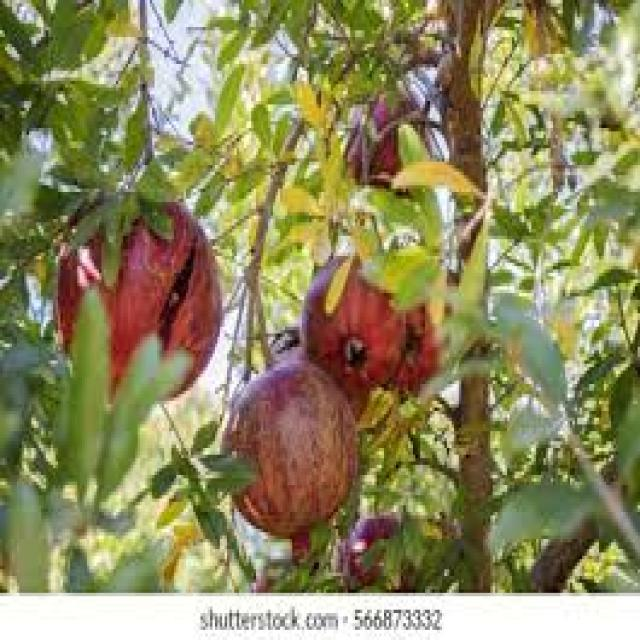overripe: (54, 193, 225, 406), (224, 361, 362, 567), (296, 245, 438, 402)
